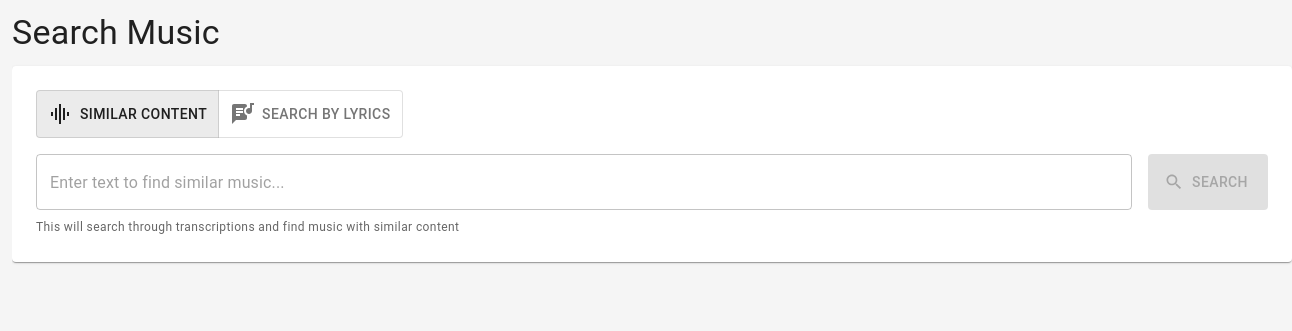
it: SearchPage Component › shows loading state during search
In the field with placeholder "Enter text to find similar music...": (584, 182) [36, 154, 1132, 210], type "test"
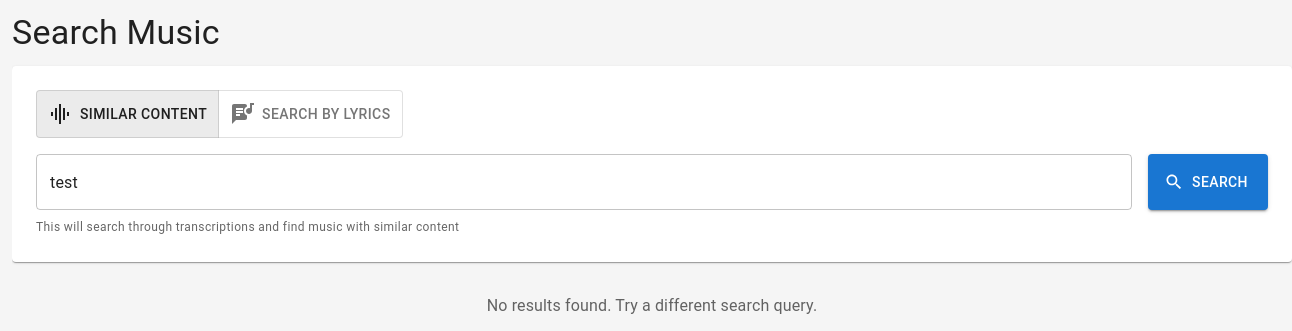
Click the button "Search": (1208, 182) [1148, 154, 1268, 210]
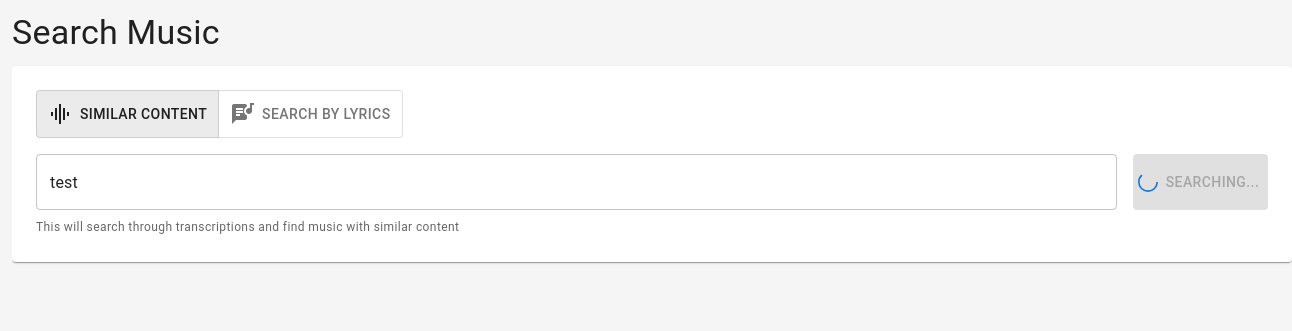
expect the button "Searching..." is shown: met, box [1133, 154, 1268, 210]
expect the progress indicator is shown: met, box [1138, 172, 1158, 192]
